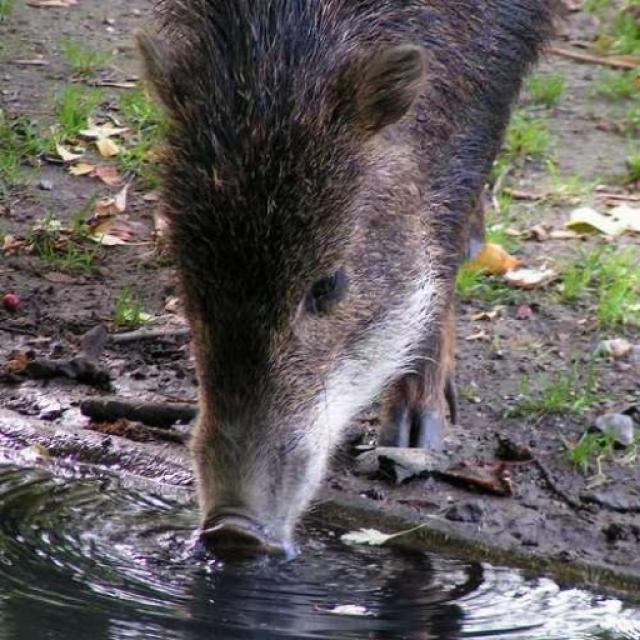pig: (94, 0, 546, 576)
